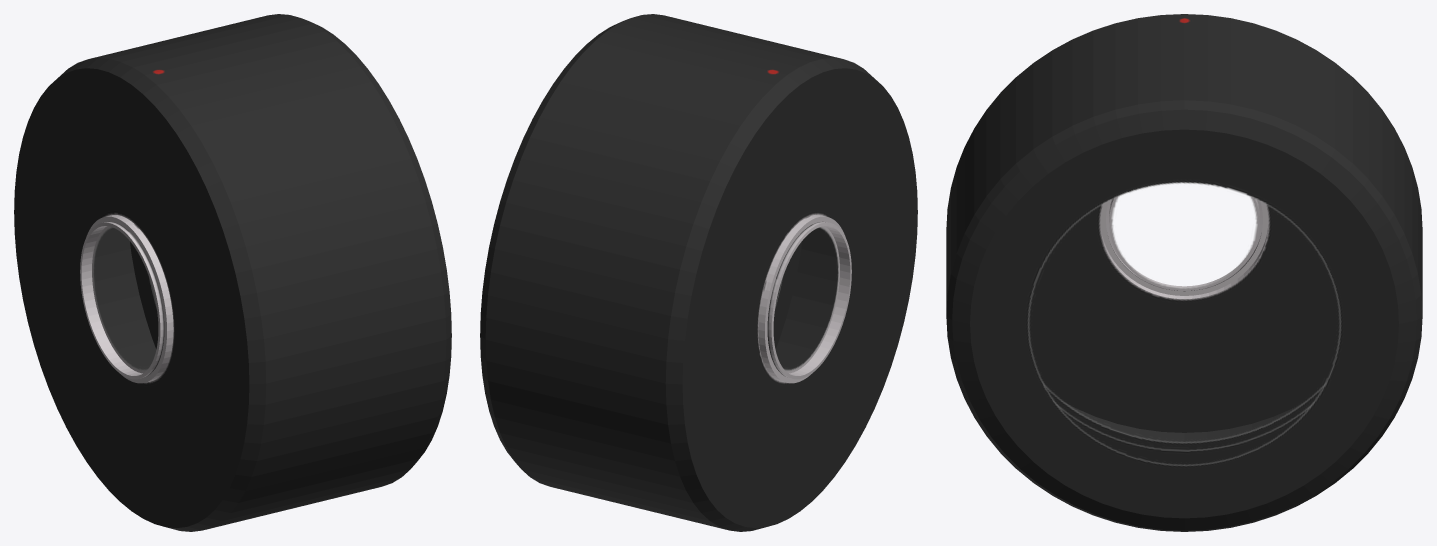
Rendered from pbr_lens.glb.
3 views of the same model, side by side, from view 1: azimuth 30°, elevation 25°; view 2: azimuth 150°, elevation 25°; view 3: azimuth 270°, elevation 25° (orthographic).
Parts seen in each view (by area): view 1: Material-material; view 2: Material-material; view 3: Material-material.
Boxes of the visible parts, x1,y1,x2,y2 form: Material-material: (14, 14, 451, 531); Material-material: (480, 14, 917, 531); Material-material: (946, 14, 1422, 531).
Size of the model in its own units: 0.1048 by 0.1983 by 0.1983.
1 material, 1 textured.
